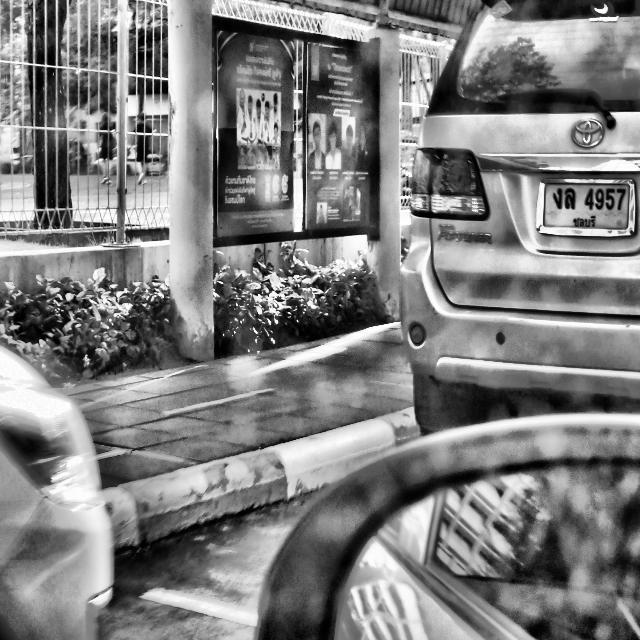license-plate: (537, 171, 638, 242)
